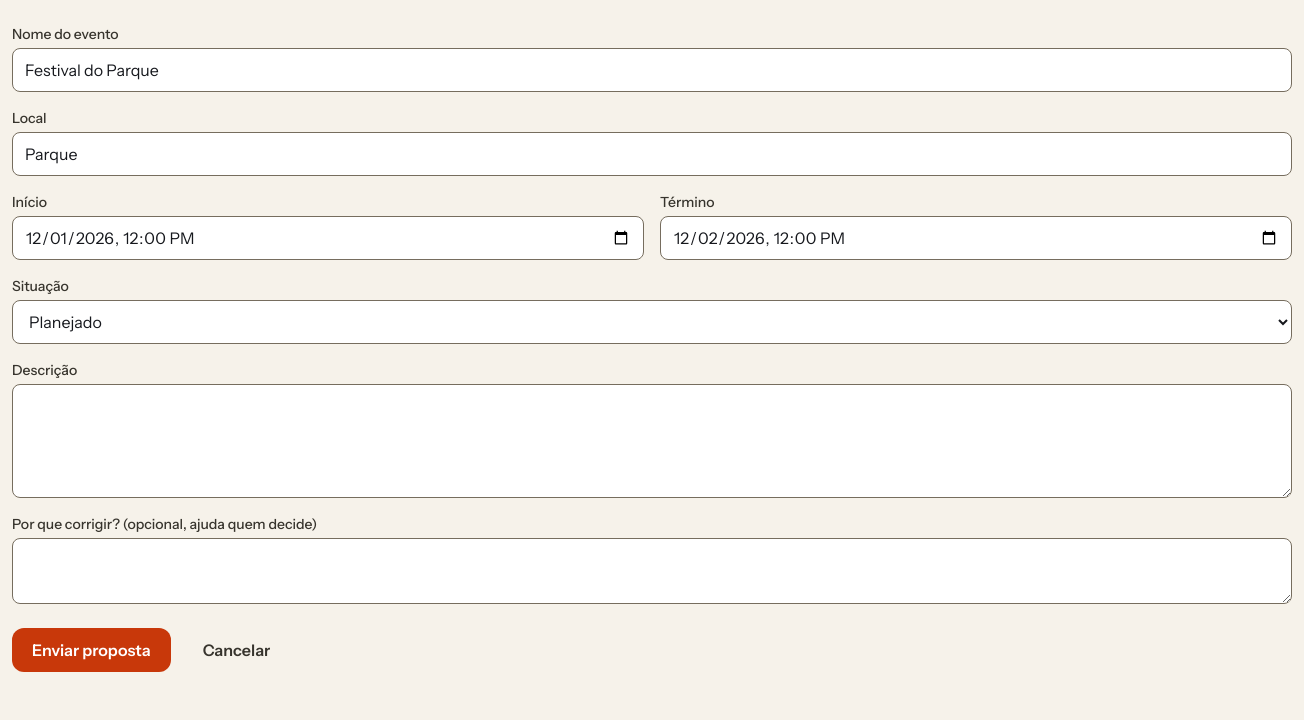
Test: ProposeChangeForm › nome em branco: mostra o erro no campo e não envia
Clear the field labelled "Nome do evento" at (652, 70), box [12,48,1292,92]
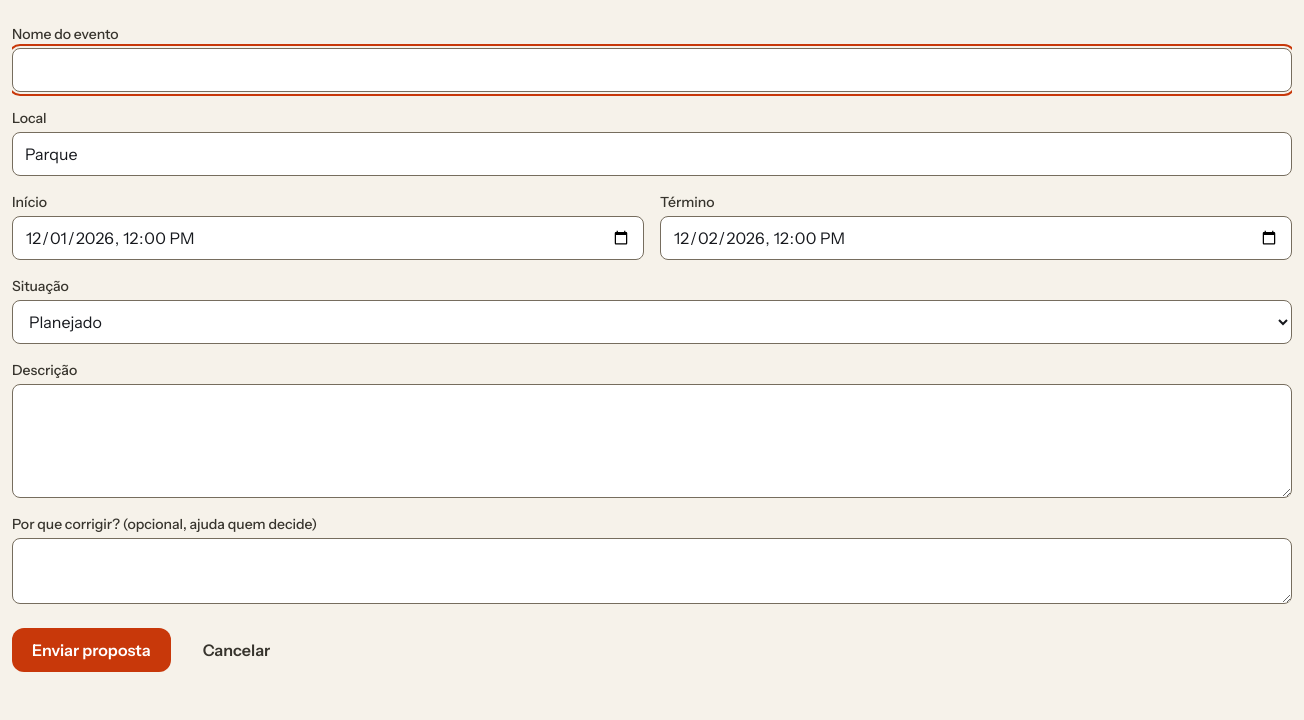
Click the button "Enviar proposta" at (91, 650), box [12,628,171,672]
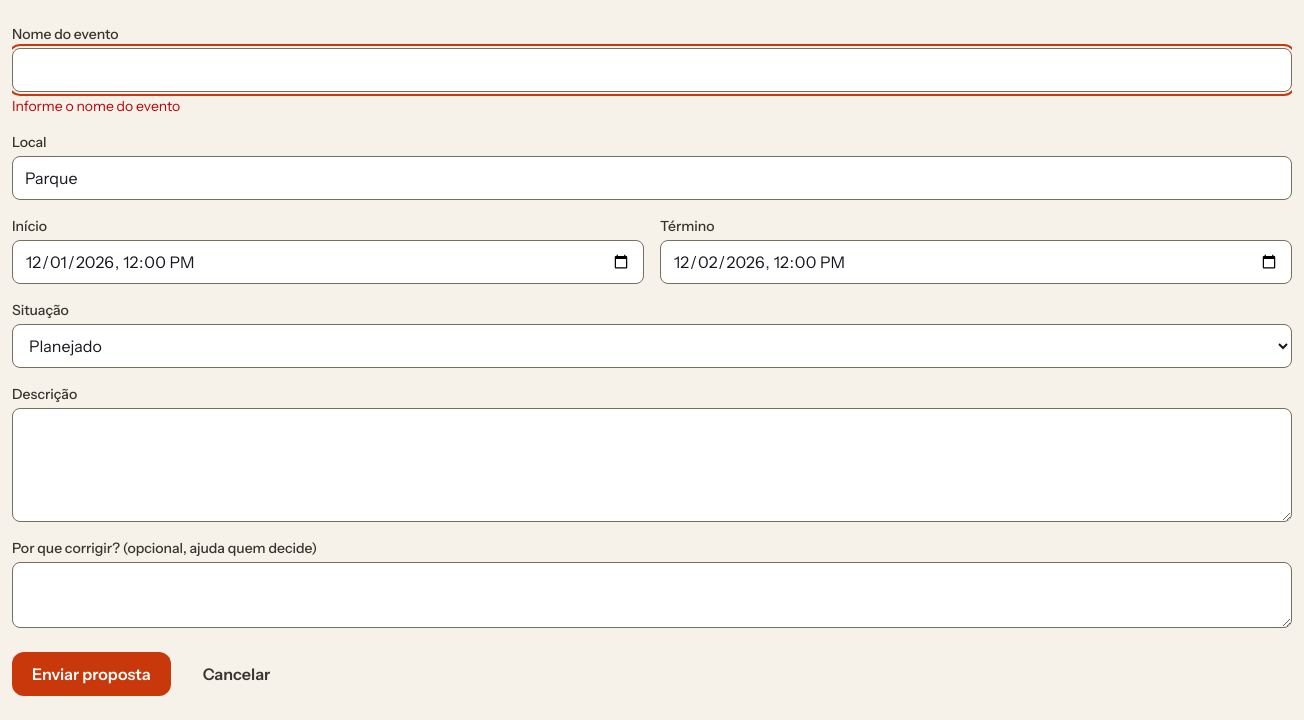
Expected: the text "Informe o nome do evento" is shown, [12,97,180,115]
